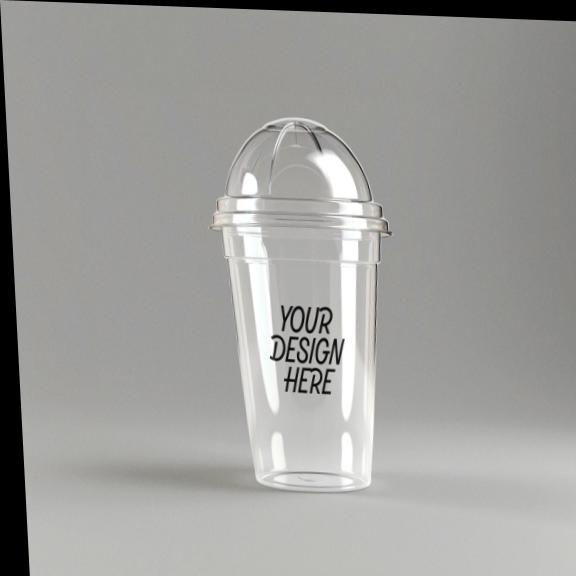Plastik: (211, 118, 387, 490)
